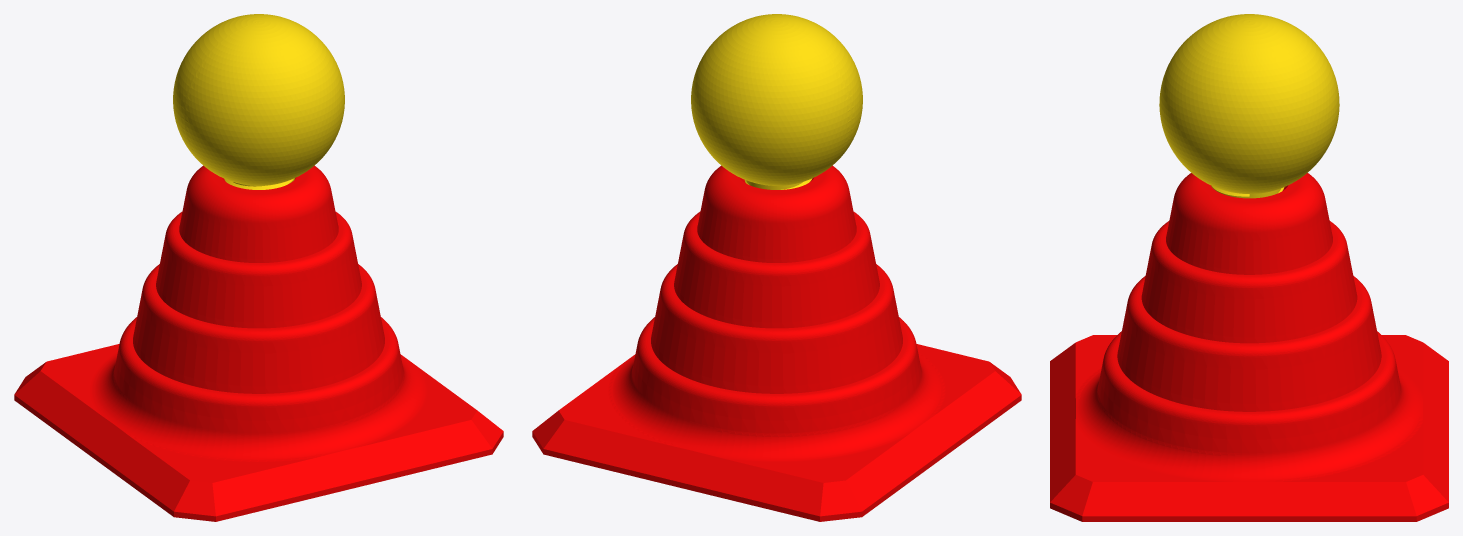
File: Hat_Santa.glb
3 renders of one model, left to right at view 1: azimuth 30°, elevation 25°; view 2: azimuth 150°, elevation 25°; view 3: azimuth 270°, elevation 25°, orthographic. The views are drawn at different scales.
Parts seen in each view (by area): view 1: Node1, Node2; view 2: Node1, Node2; view 3: Node1, Node2.
Boxes of the visible parts, <box> form: Node1: <box>14,165,503,521</box>; Node2: <box>173,14,344,189</box>; Node1: <box>532,165,1021,521</box>; Node2: <box>691,14,862,189</box>; Node1: <box>1050,173,1448,521</box>; Node2: <box>1159,14,1339,198</box>.
Size of the model in its own units: 62 by 71.22 by 62.
